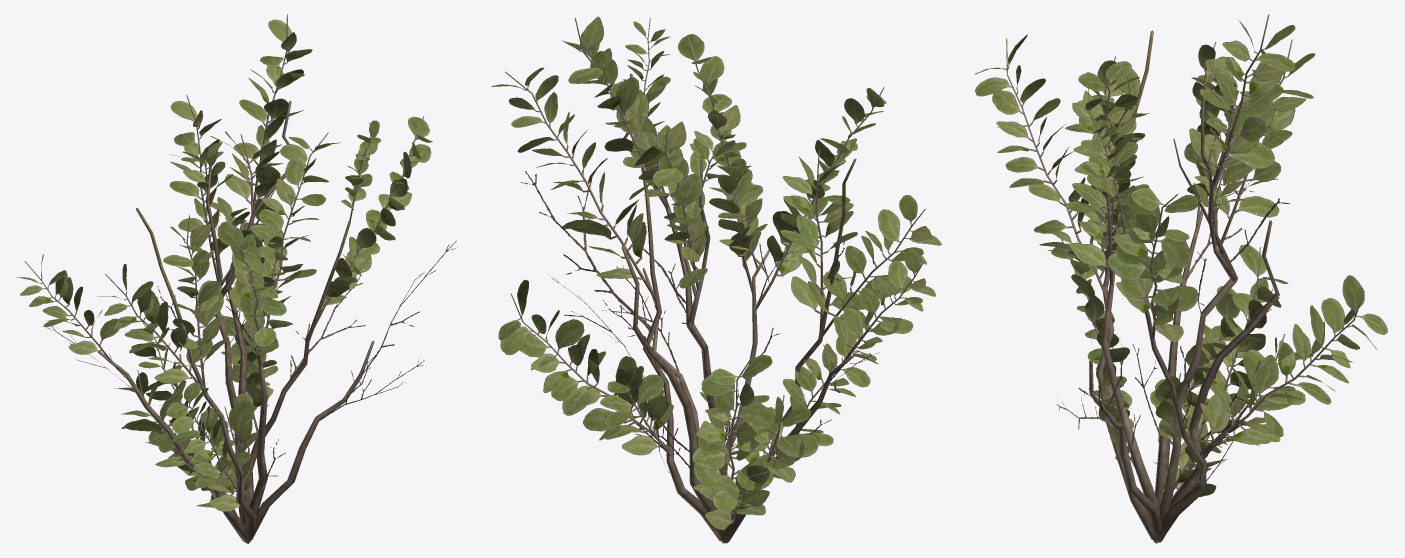
Rendered from searsia_lucida_f_LOD0.glb.
The picture shows the model from 3 angles, left to right: view 1: azimuth 30°, elevation 25°; view 2: azimuth 150°, elevation 25°; view 3: azimuth 270°, elevation 25°; orthographic projection. The views are drawn at different scales.
Parts seen in each view (by area): view 1: searsia_lucida_f_LOD0; view 2: searsia_lucida_f_LOD0; view 3: searsia_lucida_f_LOD0.
Part boxes in pixels (x1,y1,x2,y2): searsia_lucida_f_LOD0: (16, 14, 456, 543); searsia_lucida_f_LOD0: (491, 16, 941, 543); searsia_lucida_f_LOD0: (975, 14, 1387, 543).
Size of the model in its own units: 0.6576 by 0.7386 by 0.4832.
Materials: 3 (3 with a texture image).
